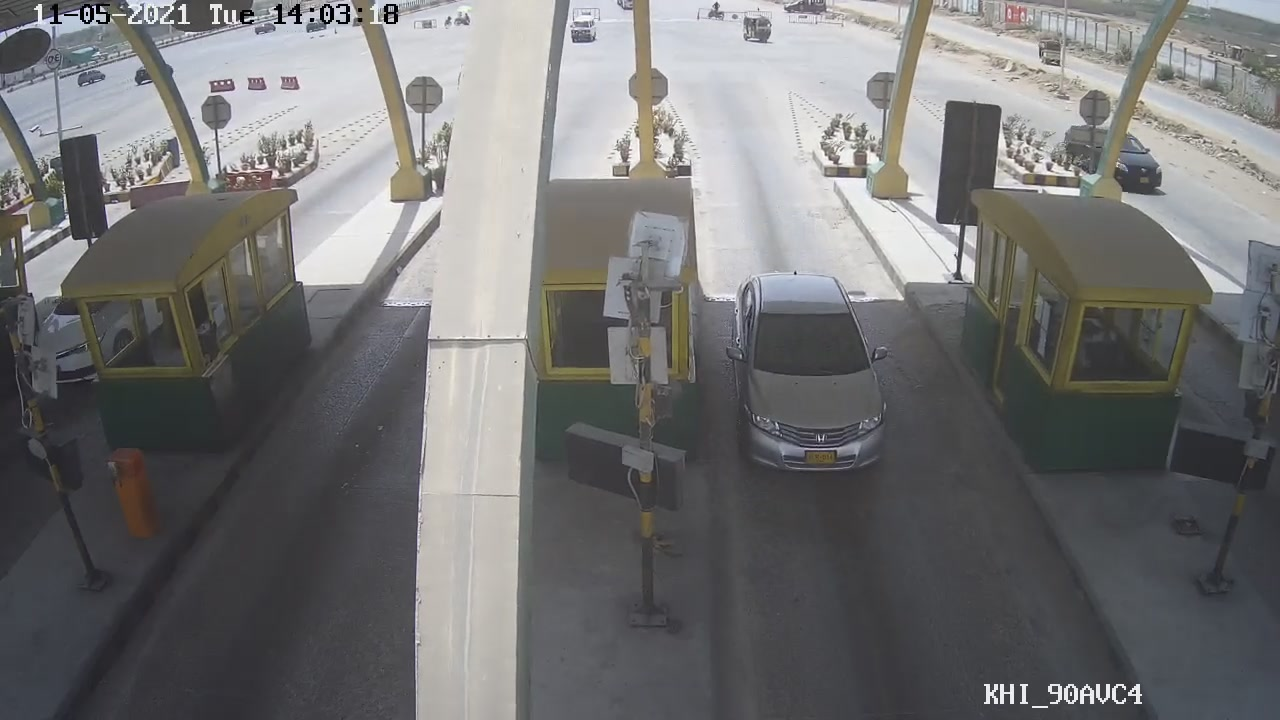F1: (725, 261, 889, 477)
